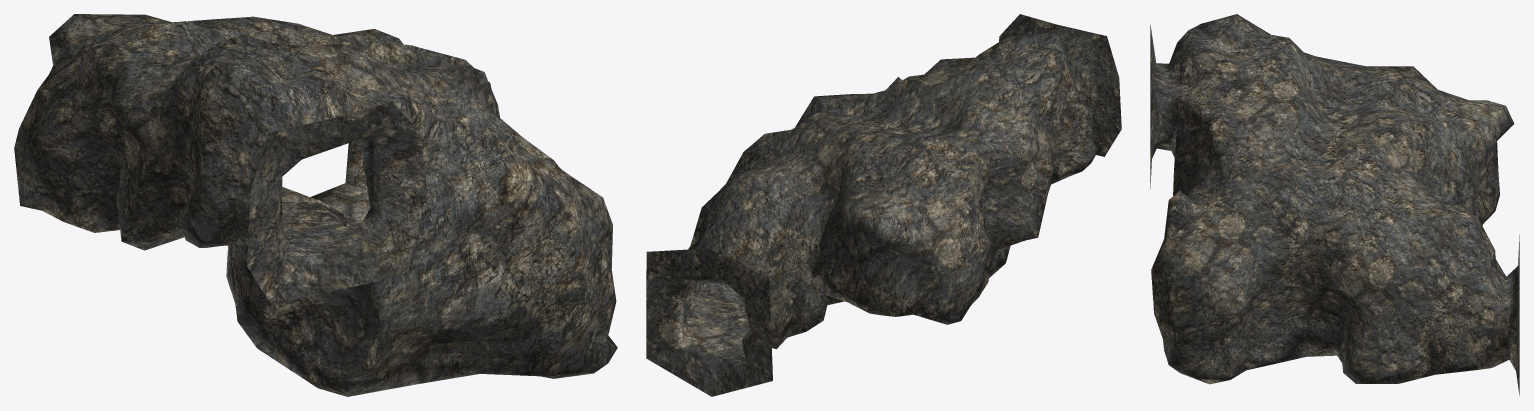
File: Module12_LOD1.fbx
3 views of the same model, side by side, from view 1: azimuth 30°, elevation 25°; view 2: azimuth 150°, elevation 25°; view 3: azimuth 270°, elevation 25° (orthographic). The views are drawn at different scales.
Visible parts, largest first — view 1: cave_el12_1900_Group65317; view 2: cave_el12_1900_Group65317; view 3: cave_el12_1900_Group65317.
Part boxes in pixels (x1,y1,x2,y2): cave_el12_1900_Group65317: (14,14,617,396); cave_el12_1900_Group65317: (646,14,1121,396); cave_el12_1900_Group65317: (1150,14,1519,395).
Bounding box in the file's own units: 19.09 × 17.04 × 20.33.
